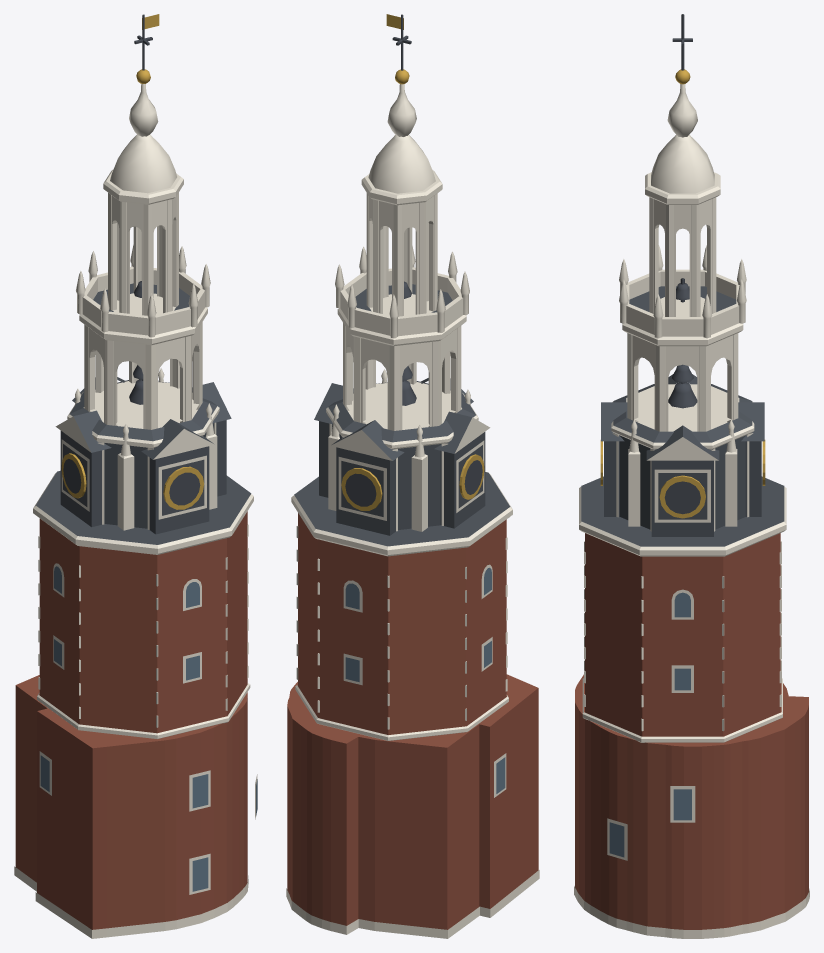
The model's file is amsterdam-montelbaanstoren.glb.
The picture shows the model from 3 angles, left to right: view 1: azimuth 30°, elevation 25°; view 2: azimuth 150°, elevation 25°; view 3: azimuth 270°, elevation 25°; orthographic projection.
Visible parts, largest first — view 1: Montelbaanstoren; view 2: Montelbaanstoren; view 3: Montelbaanstoren.
Boxes of the visible parts, left/top/right/bottom form: Montelbaanstoren: left=14, top=14, right=257, bottom=938; Montelbaanstoren: left=286, top=14, right=539, bottom=938; Montelbaanstoren: left=574, top=14, right=809, bottom=938.
Size of the model in its own units: 11.38 by 48 by 11.99.
